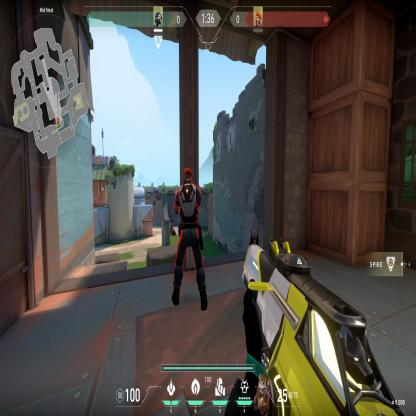enemy: (166, 166, 210, 312)
